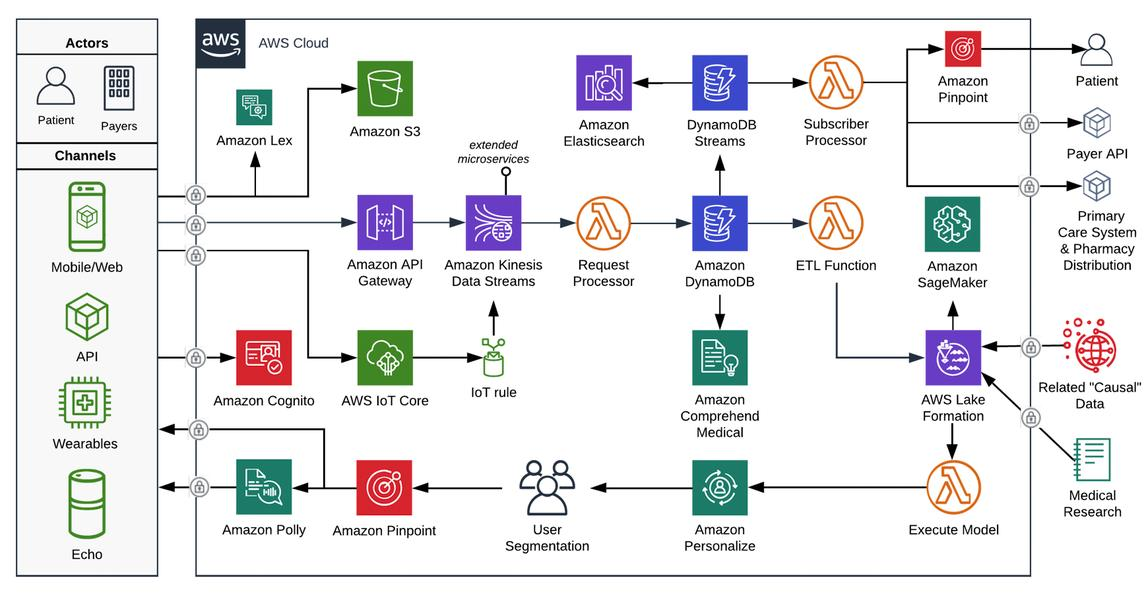AI Service: (693, 461, 746, 514), (364, 333, 410, 384), (240, 464, 287, 512), (699, 334, 744, 381)
API Gateway: (359, 198, 416, 250)
Auth: (240, 333, 291, 386)
Backend: (923, 458, 985, 517), (808, 191, 866, 253), (575, 193, 632, 255), (810, 52, 865, 110)
Configuration: (931, 333, 974, 381)
Database: (697, 58, 745, 107), (700, 200, 741, 245)
Macine Learning: (929, 197, 980, 247)
Messaging: (358, 460, 413, 515), (469, 197, 522, 249), (951, 33, 980, 67)
Search: (575, 54, 636, 110)
Storage: (355, 63, 410, 116)
